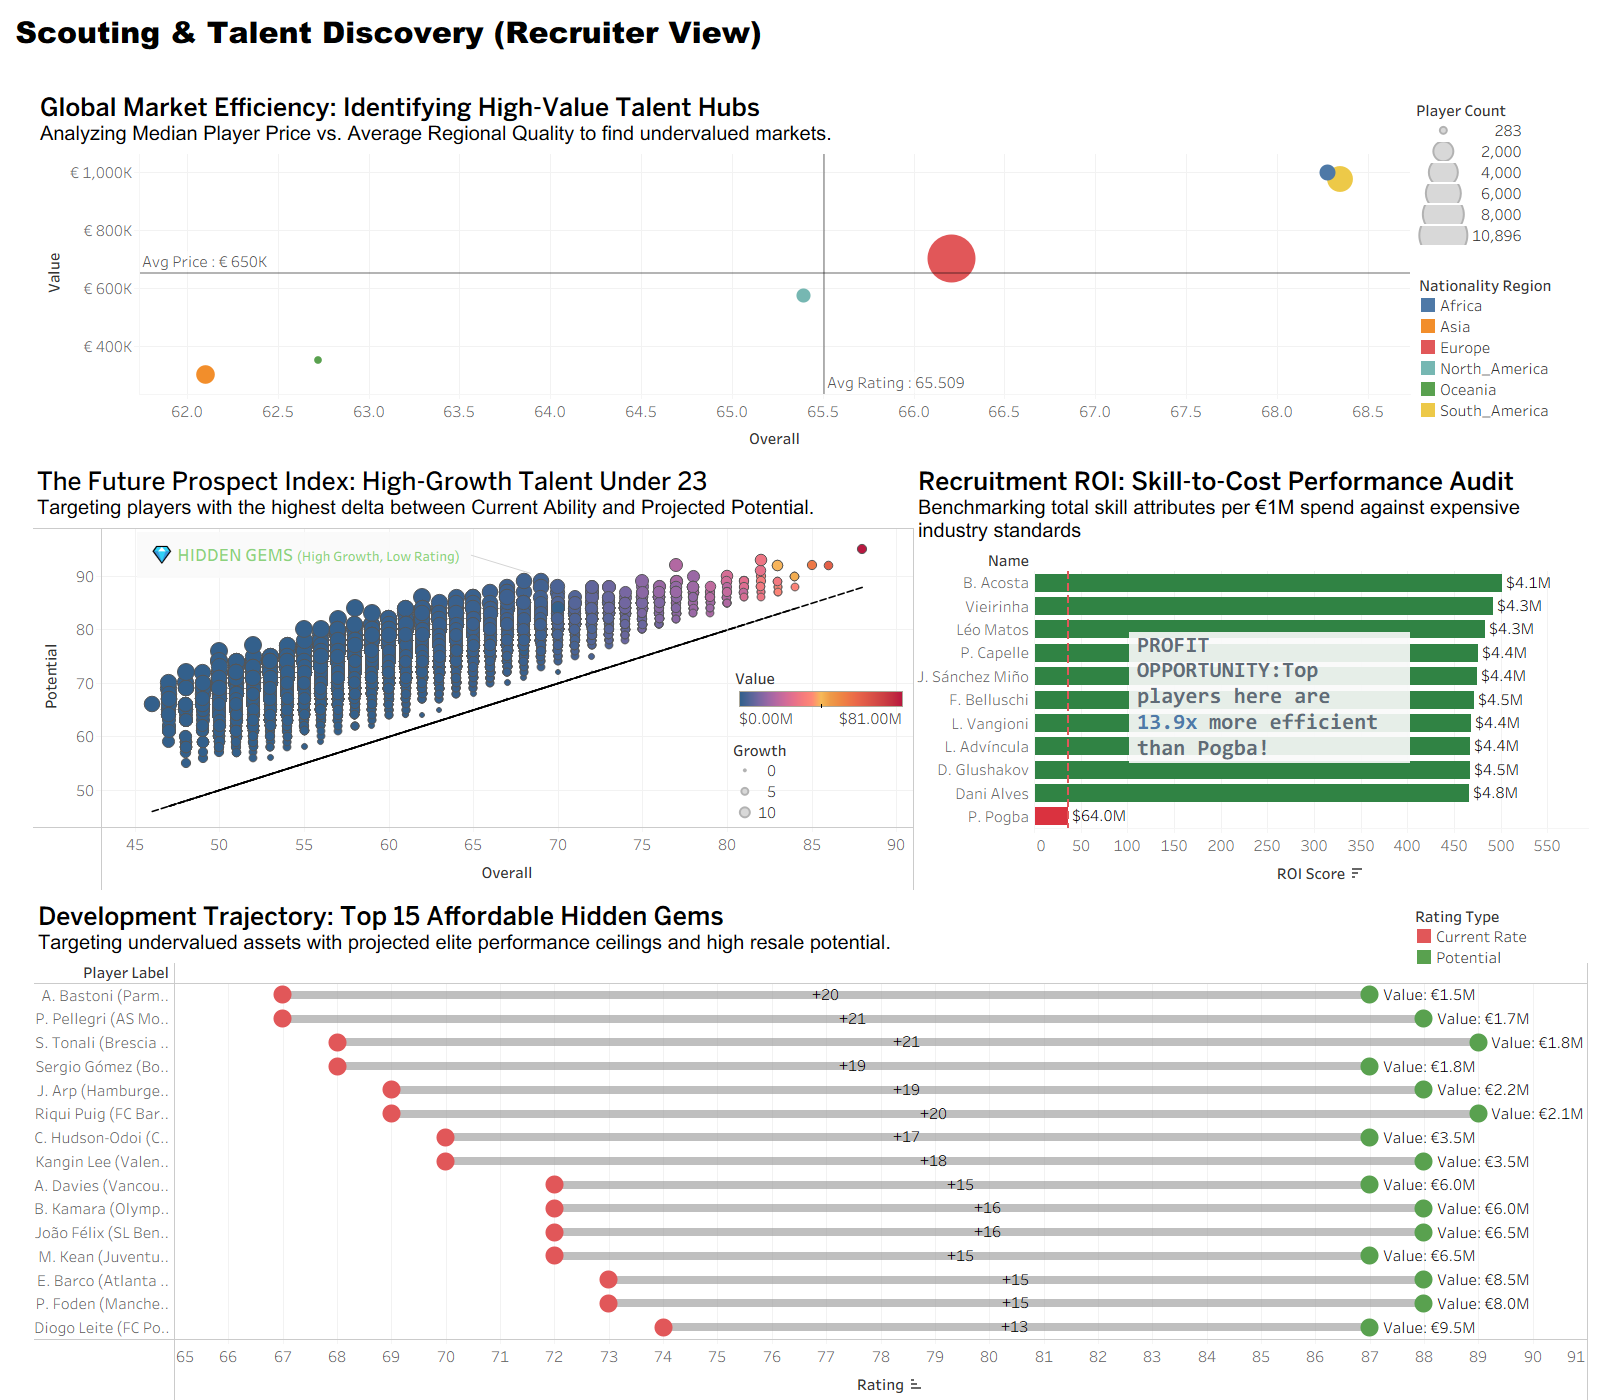

Layout of this report page (visuals, bound fields, positions):
{"tool":"tableau","page":{"name":"Dashboard 2","canvas":[1600,1400],"ordinal":1},"visuals":[{"type":"text","box":[8,8,1584,47]},{"type":"worksheet","title":"Sheet 5","mark":"Circle","rows":["Value"],"cols":["Overall"],"box":[35.7,86,1373.5,370]},{"type":"legend","title":"Sheet 5","param":"[federated.1cqac820ikebnm186rpzj12zc9kl].[sum:Player_Count:qk]","box":[1415,98,172,163]},{"type":"legend","title":"Sheet 5","param":"[federated.1cqac820ikebnm186rpzj12zc9kl].[none:Nationality_Region:nk]","box":[1418,273,172,231]},{"type":"worksheet","title":"Sheet 7","mark":"Circle","rows":["Potential","Calculation_0001124569501786"],"cols":["Overall"],"box":[33.2,460,881.2,431]},{"type":"worksheet","title":"Sheet 9","mark":"Automatic","rows":["Name"],"cols":["ROI_Score"],"box":[914.5,460,674.5,431]},{"type":"legend","title":"Sheet 7","param":"[federated.1ygm3x81o9iil918e2bis1497max].[sum:Value:qk]","box":[734.8,664,172.3,137]},{"type":"legend","title":"Sheet 7","param":"[federated.1ygm3x81o9iil918e2bis1497max].[sum:Growth:qk]","box":[732.3,738,172.3,82]},{"type":"worksheet","title":"Sheet 8","mark":"Line","rows":["Player_Label"],"cols":["Pivot Field Values","Pivot Field Values"],"box":[34.5,895,1554.5,508]},{"type":"legend","title":"Sheet 8","param":"[federated.004vigk00fgmka13g8py21v3y0y8].[none:Pivot Field Names:nk]","box":[1414,904,172,64]}]}

Visuals, with their boxes in screenshot pixels (x1, y1, x2, y2), scaled from the page's 1600x1400 canvas onto the 1600x1400 screenshot:
text: (x1=8, y1=8, x2=1592, y2=55)
"Sheet 5" worksheet (Circle marks): (x1=36, y1=86, x2=1409, y2=456)
"Sheet 5" legend: (x1=1415, y1=98, x2=1587, y2=261)
"Sheet 5" legend: (x1=1418, y1=273, x2=1590, y2=504)
"Sheet 7" worksheet (Circle marks): (x1=33, y1=460, x2=914, y2=891)
"Sheet 9" worksheet: (x1=914, y1=460, x2=1589, y2=891)
"Sheet 7" legend: (x1=735, y1=664, x2=907, y2=801)
"Sheet 7" legend: (x1=732, y1=738, x2=905, y2=820)
"Sheet 8" worksheet (Line marks): (x1=34, y1=895, x2=1589, y2=1399)
"Sheet 8" legend: (x1=1414, y1=904, x2=1586, y2=968)
